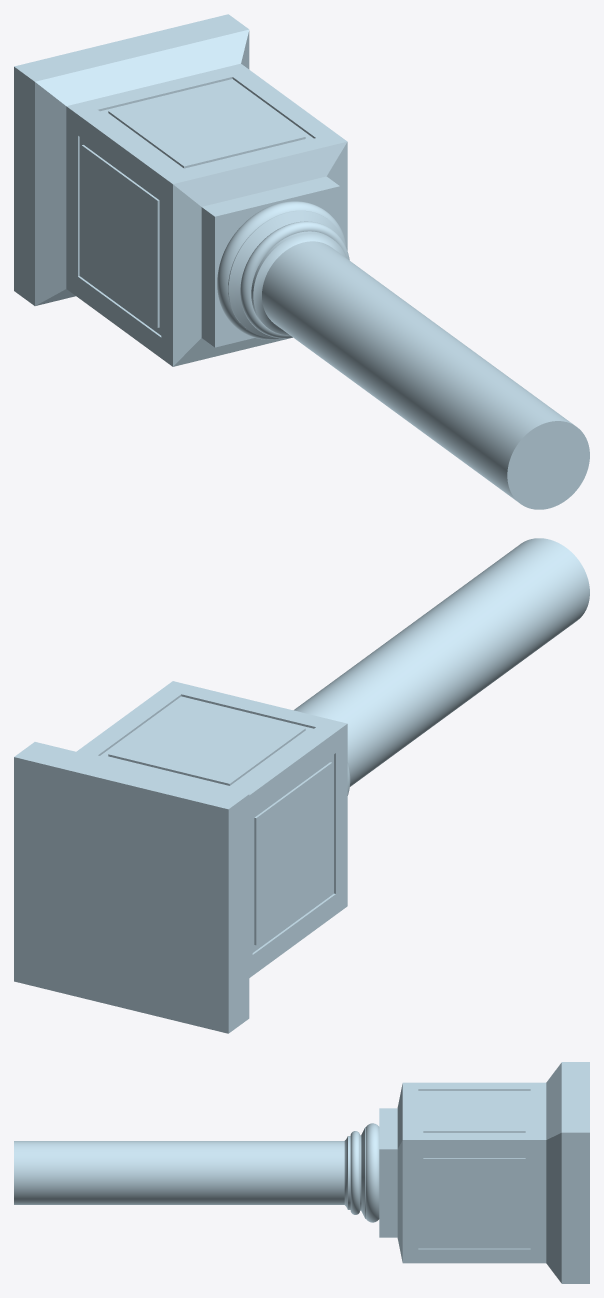
3 views of the same model, one above another, from view 1: azimuth 30°, elevation 25°; view 2: azimuth 150°, elevation 25°; view 3: azimuth 270°, elevation 25° (orthographic). The views are drawn at different scales.
Visible parts, largest first — view 1: PA-118-F_LOD0; view 2: PA-118-F_LOD0; view 3: PA-118-F_LOD0.
Boxes of the visible parts, bbox=[...] form: PA-118-F_LOD0: bbox=[14, 14, 589, 509]; PA-118-F_LOD0: bbox=[14, 538, 589, 1033]; PA-118-F_LOD0: bbox=[14, 1062, 589, 1283].
Size of what is drawn, in the model's own units: 82.06 by 82.04 by 283.
